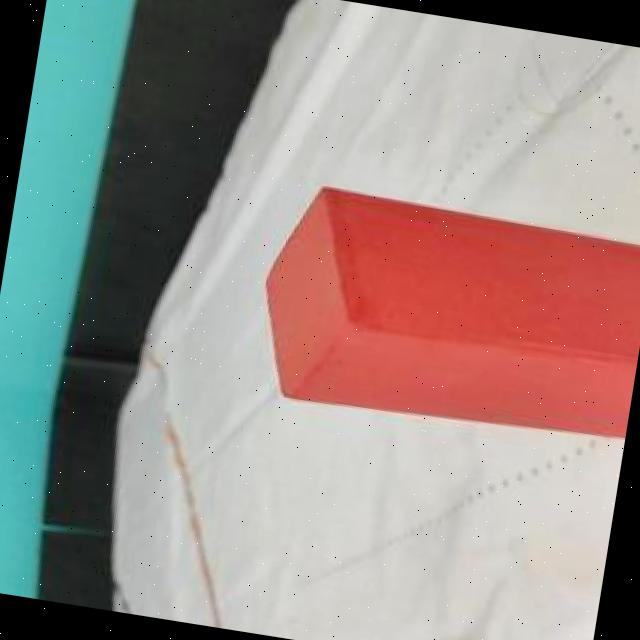redbox: (242, 173, 640, 450)
